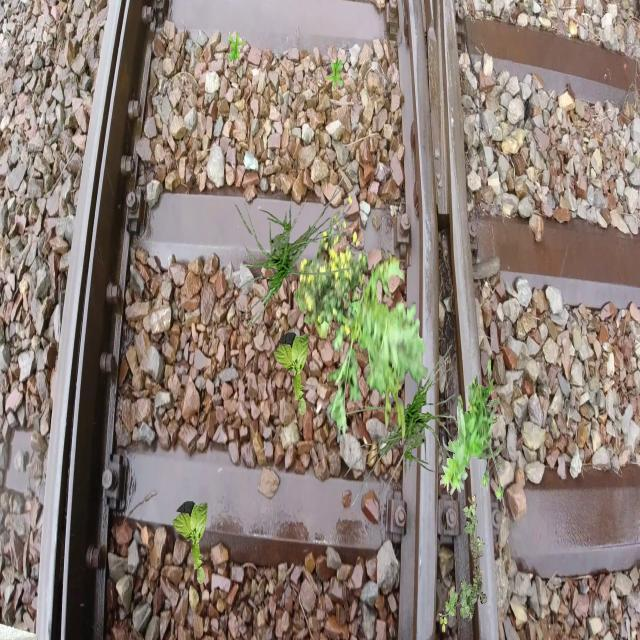Plant: (303, 248, 428, 444), (233, 174, 352, 338), (344, 344, 462, 508), (294, 196, 369, 336), (440, 359, 504, 502), (438, 495, 486, 633), (274, 332, 310, 416), (172, 501, 208, 584), (228, 32, 246, 64), (326, 58, 344, 90)
